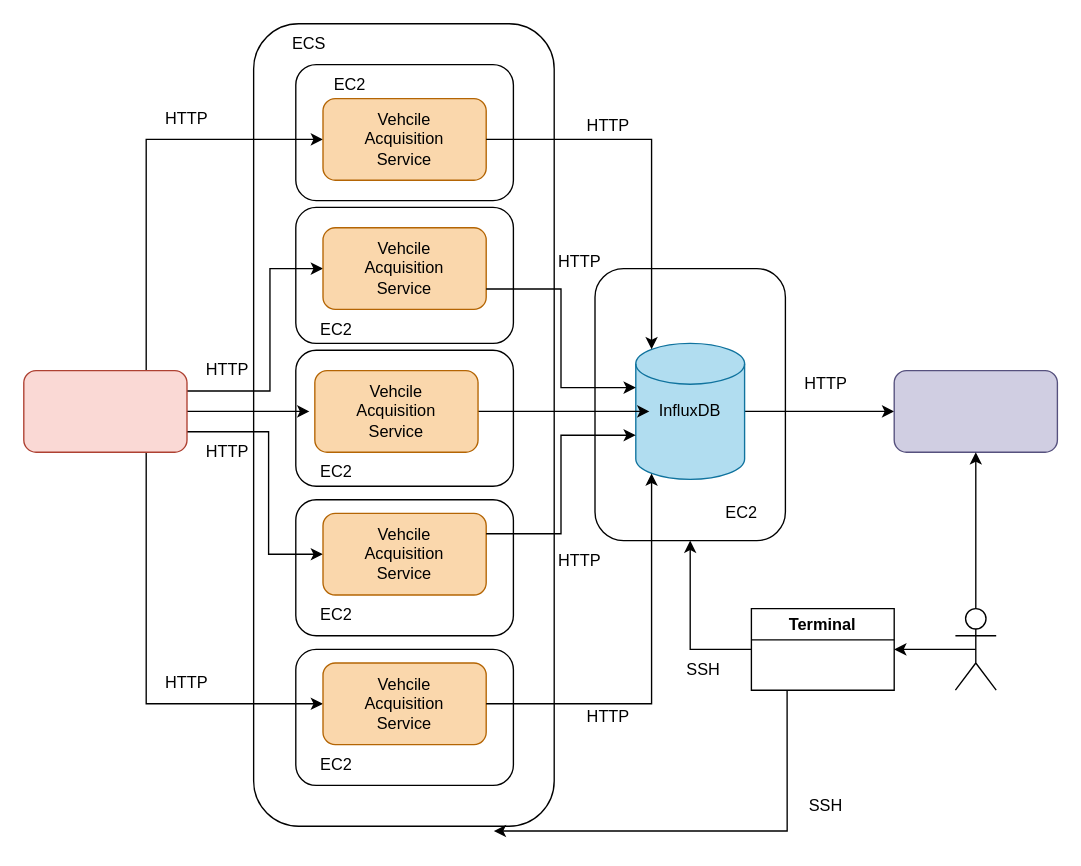
This 1081x866 diagram has some shape labels left out. The centre of each missing label's shape, as x and y in pixels:
Admin: (975,648)
Grafana Monitoring Service: (975,410)
MBTA API: (104,410)
